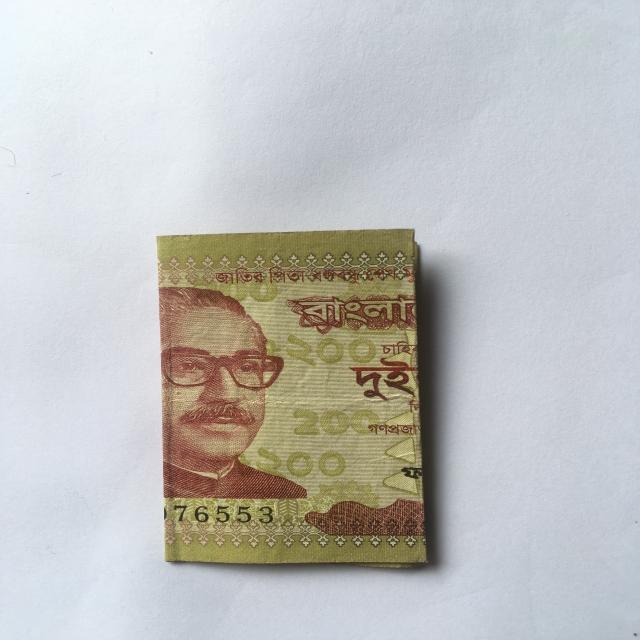Taka: (145, 223, 434, 573)
